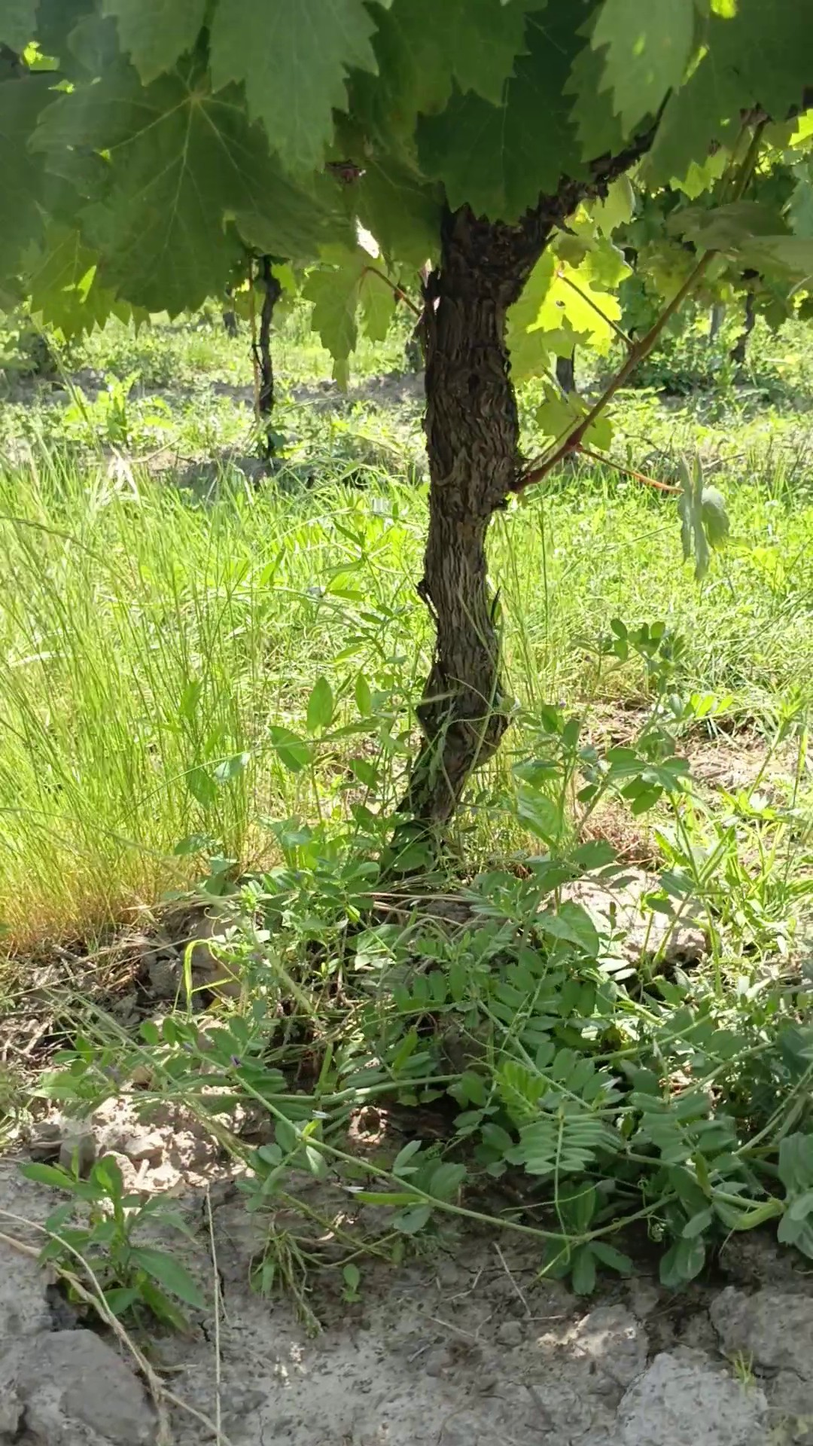vine_trunk: (402, 133, 650, 825)
